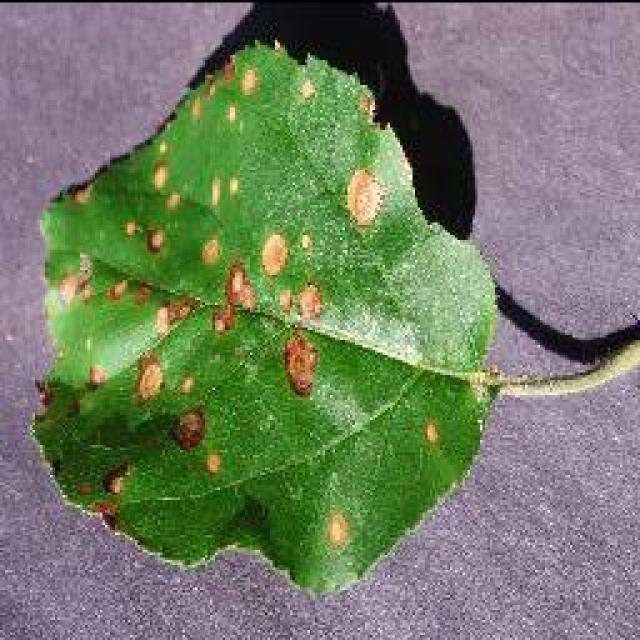Apple___Black_rot: (21, 33, 512, 605)
